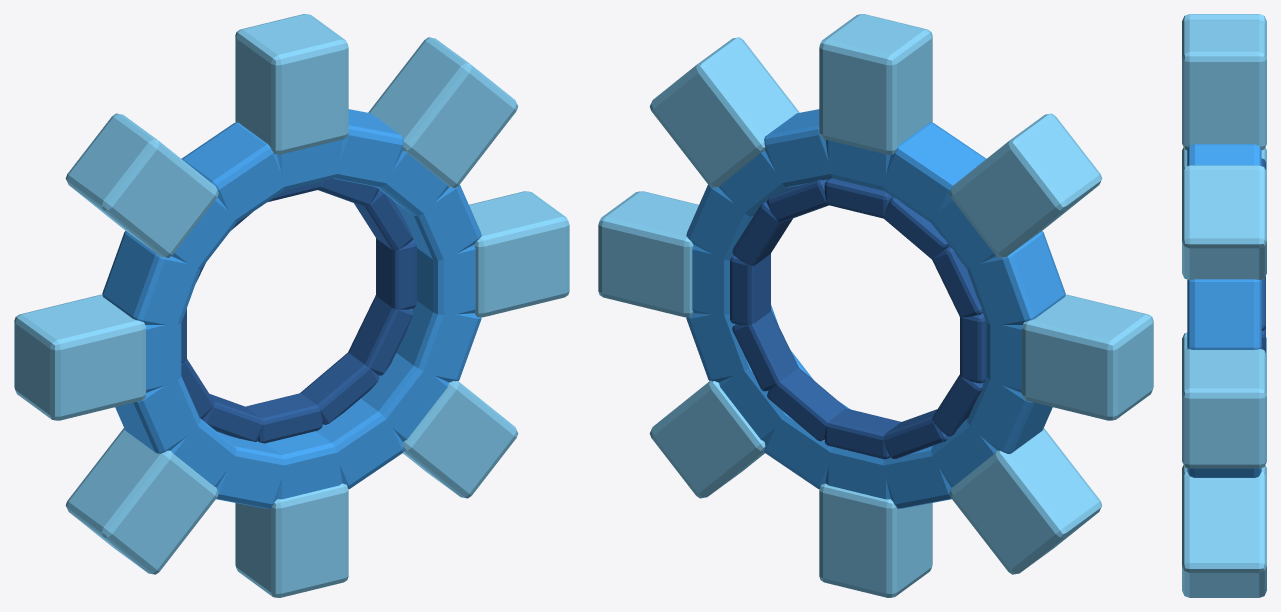
The model's file is Gear.glb.
The picture shows the model from 3 angles, left to right: view 1: azimuth 30°, elevation 25°; view 2: azimuth 150°, elevation 25°; view 3: azimuth 270°, elevation 25°; orthographic projection.
Visible parts, largest first — view 1: Gear tooth.002, Gear tooth.004, Gear tooth.005, Gear tooth.001, Gear tooth.003, Gear tooth.006, Gear tooth, Gear tooth.007, Gear ring.007, Gear ring.005, Gear ring.015, Gear ring.013 (+20 smaller); view 2: Gear tooth.002, Gear tooth.004, Gear tooth.005, Gear tooth.001, Gear tooth.003, Gear tooth.006, Gear tooth, Gear tooth.007, Gear ring.007, Gear ring.005, Gear ring.009, Gear ring.003 (+24 smaller); view 3: Gear tooth.002, Gear tooth.007, Gear tooth, Gear tooth.001, Gear ring.001, Gear ring.003, Gear ring.015, Gear tooth.003, Recess wall.001, Gear tooth.004.
Part boxes in pixels (<box>): Gear tooth.002: <box>235,14,348,154</box>; Gear tooth.004: <box>14,294,145,420</box>; Gear tooth.005: <box>65,428,218,574</box>; Gear tooth.001: <box>368,37,518,188</box>; Gear tooth.003: <box>65,113,218,258</box>; Gear tooth.006: <box>235,483,348,597</box>; Gear tooth: <box>469,191,569,317</box>; Gear tooth.007: <box>402,381,518,498</box>; Gear ring.007: <box>102,231,200,326</box>; Gear ring.005: <box>181,122,284,222</box>; Gear ring.015: <box>396,301,481,382</box>; Gear ring.013: <box>316,398,403,489</box>; Gear tooth.002: <box>819,14,932,154</box>; Gear tooth.004: <box>1022,294,1153,420</box>; Gear tooth.005: <box>949,428,1102,574</box>; Gear tooth.001: <box>649,37,799,188</box>; Gear tooth.003: <box>949,113,1102,258</box>; Gear tooth.006: <box>819,483,932,597</box>; Gear tooth: <box>598,191,698,317</box>; Gear tooth.007: <box>649,381,765,498</box>; Gear ring.007: <box>967,231,1065,326</box>; Gear ring.005: <box>883,122,986,222</box>; Gear ring.009: <box>967,377,1052,453</box>; Gear ring.003: <box>764,109,832,187</box>; Gear tooth.002: <box>1182,20,1266,149</box>; Gear tooth.007: <box>1182,471,1266,597</box>; Gear tooth: <box>1182,349,1266,468</box>; Gear tooth.001: <box>1182,165,1266,280</box>; Gear ring.001: <box>1187,279,1261,349</box>; Gear ring.003: <box>1187,144,1261,165</box>; Gear ring.015: <box>1187,468,1261,477</box>; Gear tooth.003: <box>1182,14,1266,27</box>; Recess wall.001: <box>1261,276,1265,330</box>; Gear tooth.004: <box>1182,147,1266,171</box>.
Size of the model in its own units: 3.43 by 3.43 by 0.49.
